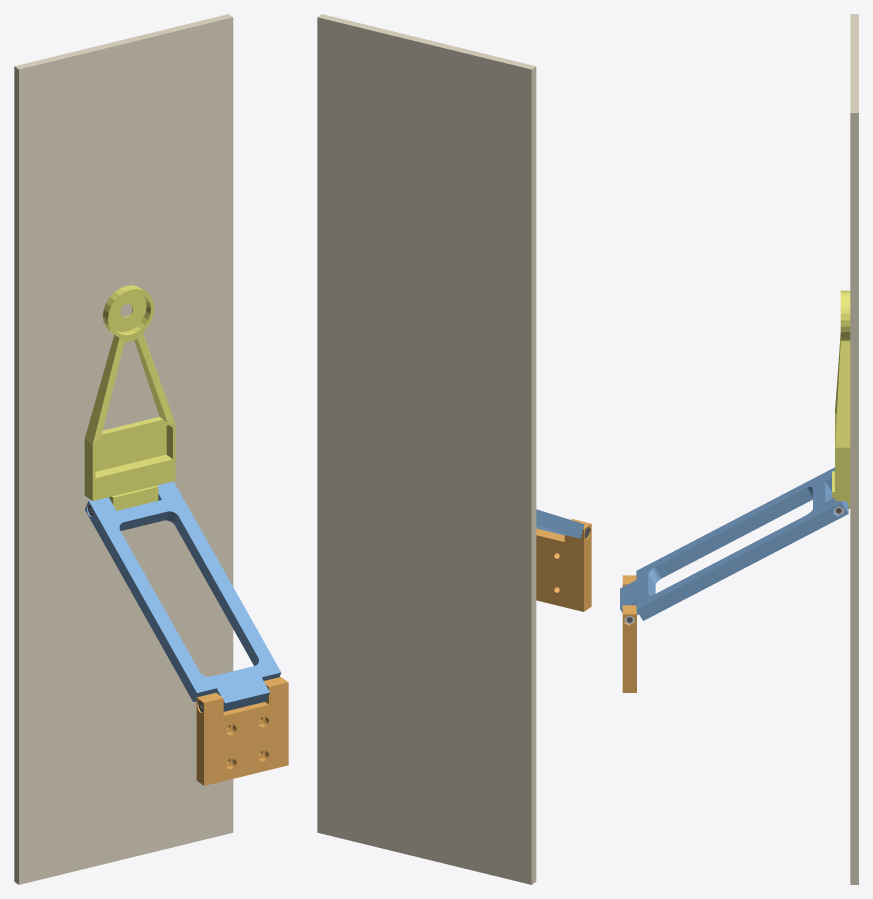
Rendered from carriage_chain_xrite.glb.
3 renders of one model, left to right at view 1: azimuth 30°, elevation 25°; view 2: azimuth 150°, elevation 25°; view 3: azimuth 270°, elevation 25°, orthographic. The views are drawn at different scales.
Visible parts, largest first — view 1: table_part, link1_part, xrite_i1_plate_part, carriage_plate_part; view 2: table_part, carriage_plate_part, link1_part; view 3: link1_part, table_part, xrite_i1_plate_part, carriage_plate_part.
Boxes of the visible parts, left/top/right/bottom form: table_part: left=14, top=14, right=233, bottom=884; link1_part: left=85, top=481, right=281, bottom=711; xrite_i1_plate_part: left=84, top=285, right=175, bottom=510; carriage_plate_part: left=196, top=677, right=288, bottom=785; table_part: left=317, top=14, right=536, bottom=884; carriage_plate_part: left=536, top=519, right=591, bottom=611; link1_part: left=536, top=509, right=584, bottom=538; link1_part: left=620, top=467, right=848, bottom=620; table_part: left=850, top=14, right=858, bottom=884; xrite_i1_plate_part: left=832, top=290, right=850, bottom=508; carriage_plate_part: left=622, top=575, right=636, bottom=692.
Bounding box in the file's own units: 165 × 600 × 168.
